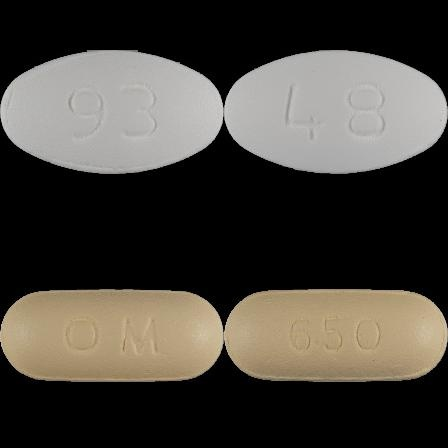55289-615: (0, 0, 224, 224)
